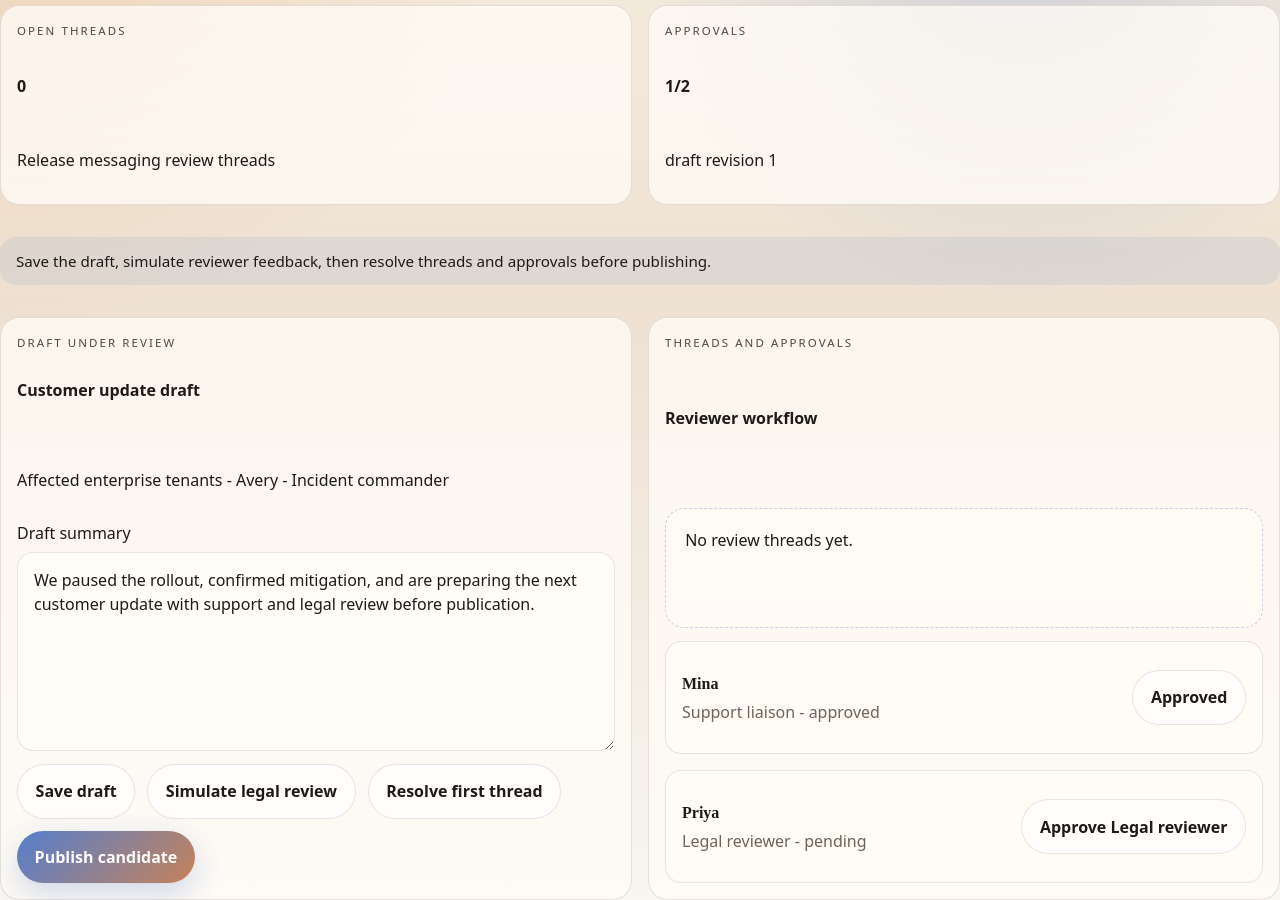
Test: release review threads and approvals › resolves review threads, records approvals, and publishes the candidate
(page scrolled)
Click the button "Simulate legal review" at (251, 791), box [147,764,356,819]
Wait 220 ms
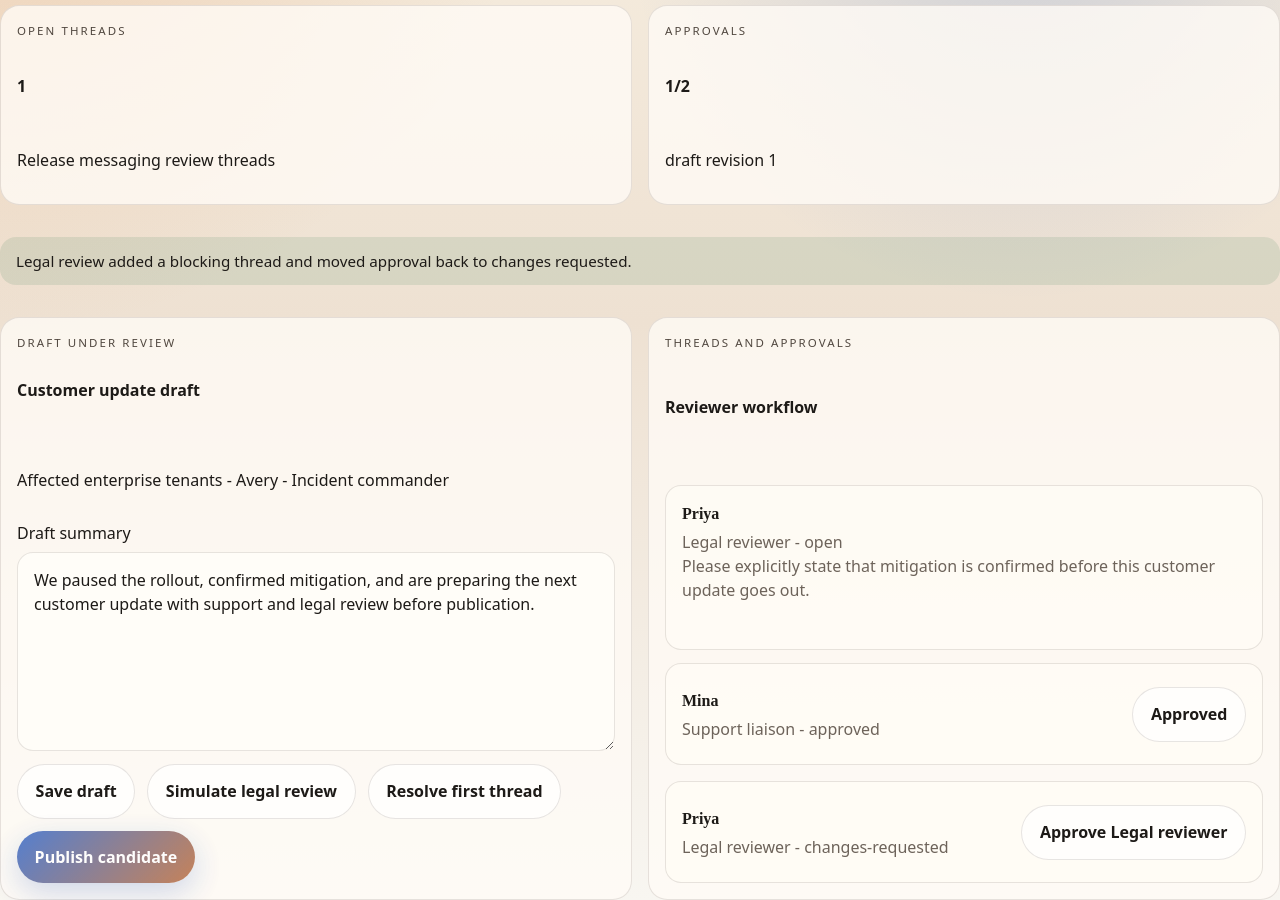
Click the button "Resolve first thread" at (464, 791), box [368,764,561,819]
Wait 220 ms
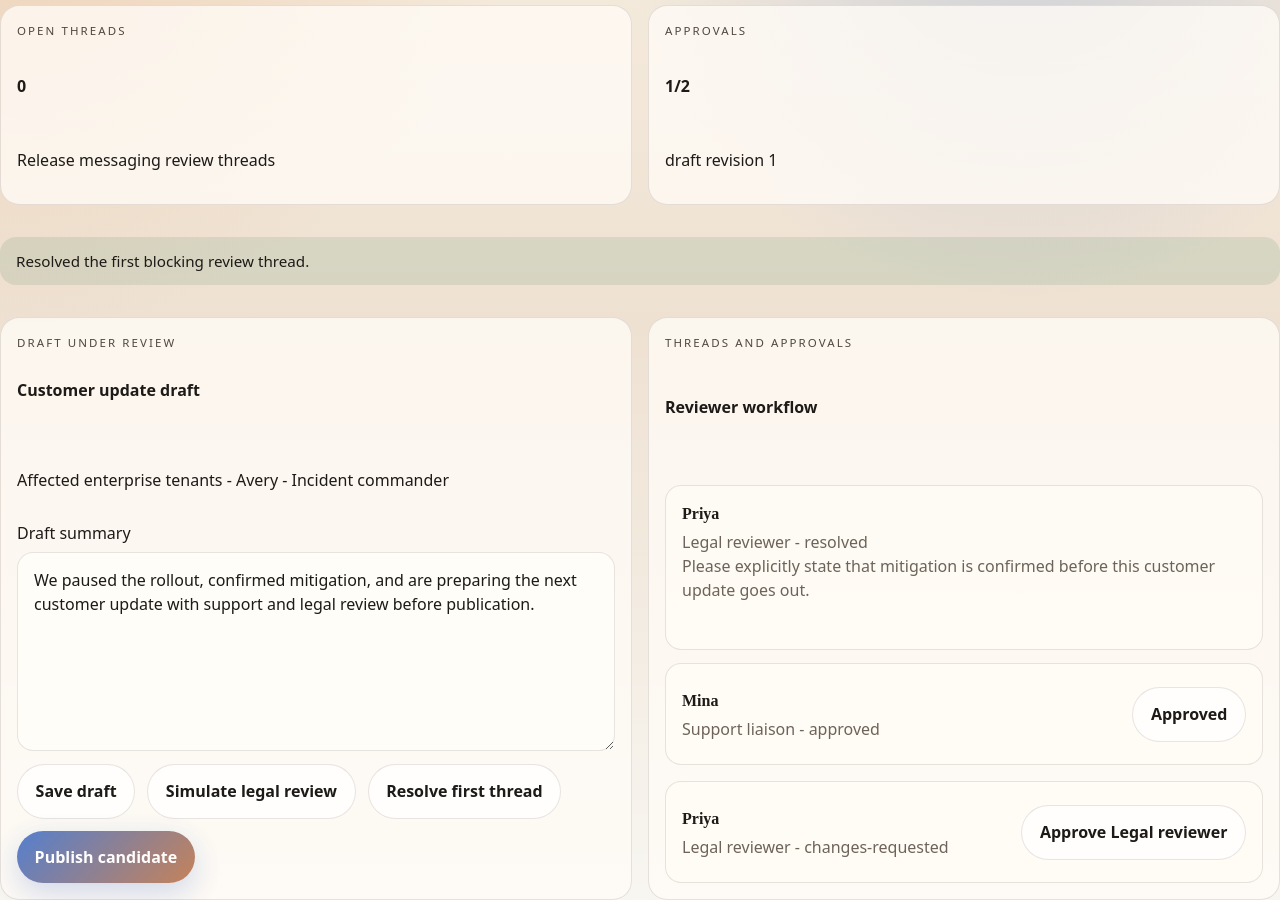
Click the button "Approve Legal reviewer" at (1134, 832), box [1021,805,1246,860]
Wait 220 ms
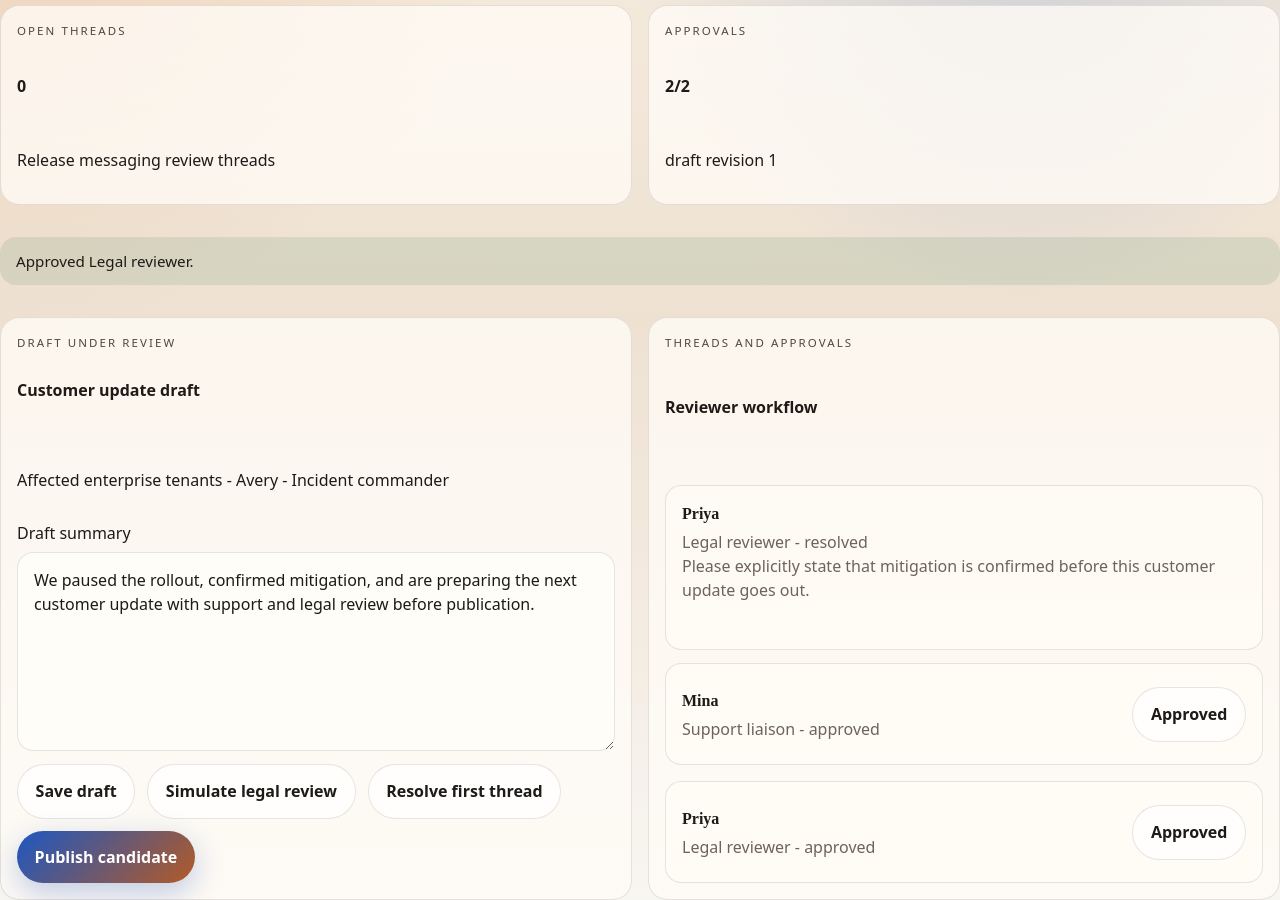
Click the button "Publish candidate" at (106, 857), box [17,831,195,884]
Wait 220 ms
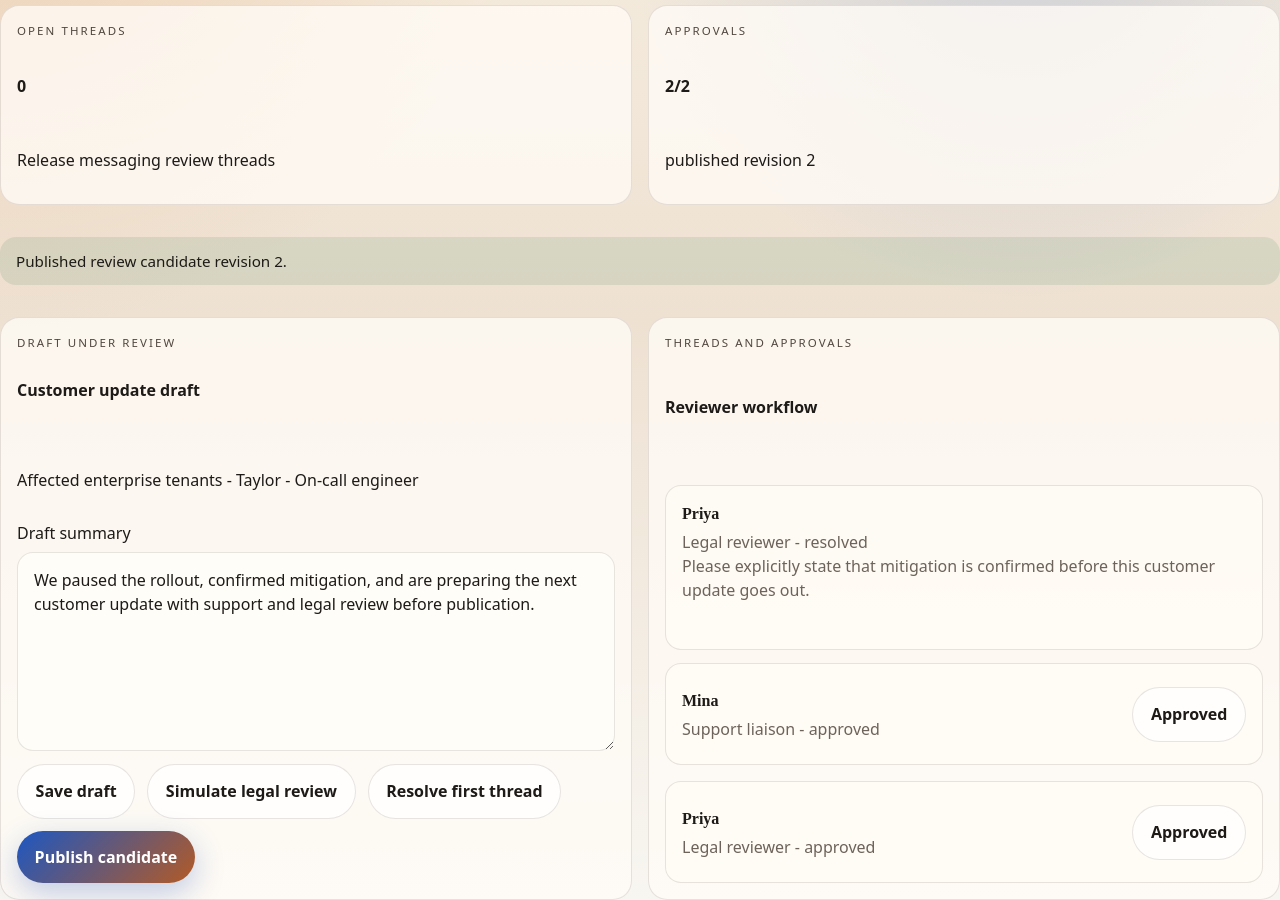
Result: the text "Published review candidate revision 2." is shown at [0,237,1279,285]
Result: the text "published revision 2" is shown at [665,149,815,171]
